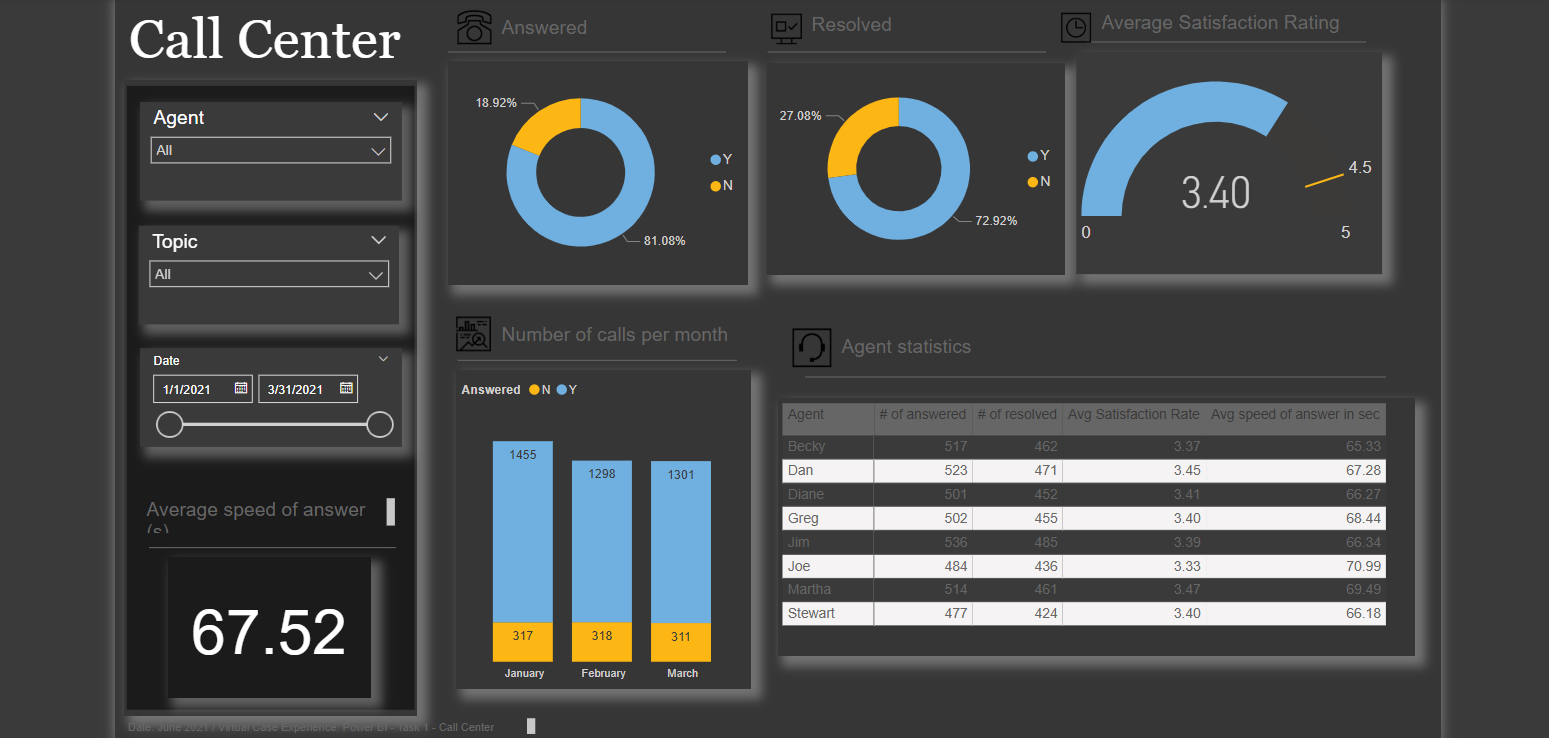

This screenshot's page, from the dashboard's own definition file:
{"tool":"powerbi","page":{"name":"Call Center Manager","canvas":[1280,720],"ordinal":0},"visuals":[{"type":"textbox","box":[8.4,4.8,289.4,74.8],"z":0},{"type":"basicShape","box":[8.7,80.1,283.6,614.4],"z":2000},{"type":"columnChart","fields":{"Category":["Call Center.Date.Variation.Date Hierarchy.Month"],"Y":["Call Center.Call Id"],"Series":["Call Center.Answered (Y/N)"]},"box":[329.5,359.7,284.8,308.3],"z":6000},{"type":"slicer","fields":{"Values":["Call Center.Date"]},"box":[24.6,339.5,252.4,94.9],"z":7000},{"type":"pivotTable","fields":{"Rows":["Call Center.Agent"],"Values":["Call Center.# of answered","Call Center.# of resolved","Call Center.Satisfaction rating","Call Center.Speed of answer in seconds"]},"box":[639.2,387.1,615.1,248.4],"z":8000},{"type":"slicer","fields":{"Values":["Call Center.Agent"]},"box":[24.6,101.6,252.4,95],"z":9000},{"type":"slicer","fields":{"Values":["Call Center.Topic"]},"box":[23.5,220.6,251.3,94.9],"z":10000},{"type":"donutChart","fields":{"Category":["Call Center.Resolved"],"Y":["Call Center.Resolved"]},"box":[628.3,63.9,288.2,203.8],"z":11000},{"type":"gauge","fields":{"Y":["Call Center.Satisfaction rating"],"MaxValue":["Call Center.Satisfaction rating"],"TargetValue":["Call Center.Target Value Satisfaction"]},"box":[927.4,53.1,295.5,214.7],"z":12000},{"type":"textbox","box":[25.3,478.8,249.6,43.4],"z":14000},{"type":"basicShape","box":[22.9,511.4,258.1,39.8],"z":15000},{"type":"donutChart","fields":{"Category":["Call Center.Answered (Y/N)"],"Y":["Call Center.Answered (Y/N)"]},"box":[320.8,61.5,289.4,215.9],"z":16000},{"type":"textbox","box":[367.8,14.5,172.5,36.2],"z":17000},{"type":"textbox","box":[666.9,10.9,183.3,36.2],"z":18000},{"type":"card","fields":{"Values":["Call Center.Speed of answer in seconds"]},"box":[50.7,540.3,196.6,136.3],"z":19000},{"type":"basicShape","box":[927.4,22.9,289.4,41],"z":20000},{"type":"textbox","box":[946.7,9.6,249.6,38.6],"z":21000},{"type":"basicShape","box":[311.2,32.6,288.2,41],"z":22000},{"type":"basicShape","box":[619.9,32.6,288.2,41],"z":23000},{"type":"image","box":[908.1,0,38.6,59.1],"z":24000},{"type":"image","box":[325.6,7.2,42.2,43.4],"z":25000},{"type":"image","box":[628.3,0,39.8,61.5],"z":26000},{"type":"textbox","box":[367.4,310.5,250.2,35.7],"z":27000},{"type":"basicShape","box":[320.5,330.6,289.3,40.2],"z":28000},{"type":"textbox","box":[695.9,322,249.6,36.2],"z":29000},{"type":"basicShape","box":[656.1,346.1,580.1,41],"z":30000},{"type":"image","box":[648.8,309.9,47,56.7],"z":31000},{"type":"image","box":[325,290.4,43.6,69.2],"z":32000},{"type":"textbox","box":[7.7,691.6,403.2,28],"z":34000}]}

Visuals, with their boxes on the page's 1280x720 design canvas (x1, y1, x2, y2). These are canvas units, not pixel positions in the 1549x738 screenshot, which may show the page scaled, cropped or inside an application window:
textbox: (8, 5, 298, 80)
basicShape: (9, 80, 292, 694)
columnChart - Call Center.Date.Variation.Date Hierarchy.Month x Call Center.Call Id: (330, 360, 614, 668)
slicer - Call Center.Date: (25, 340, 277, 434)
pivotTable - Call Center.Agent x Call Center.# of answered: (639, 387, 1254, 636)
slicer - Call Center.Agent: (25, 102, 277, 197)
slicer - Call Center.Topic: (24, 221, 275, 316)
donutChart - Call Center.Resolved x Call Center.Resolved: (628, 64, 916, 268)
gauge - Call Center.Satisfaction rating x Call Center.Satisfaction rating: (927, 53, 1223, 268)
textbox: (25, 479, 275, 522)
basicShape: (23, 511, 281, 551)
donutChart - Call Center.Answered (Y/N) x Call Center.Answered (Y/N): (321, 62, 610, 277)
textbox: (368, 14, 540, 51)
textbox: (667, 11, 850, 47)
card - Call Center.Speed of answer in seconds: (51, 540, 247, 677)
basicShape: (927, 23, 1217, 64)
textbox: (947, 10, 1196, 48)
basicShape: (311, 33, 599, 74)
basicShape: (620, 33, 908, 74)
image: (908, 0, 947, 59)
image: (326, 7, 368, 51)
image: (628, 0, 668, 62)
textbox: (367, 310, 618, 346)
basicShape: (320, 331, 610, 371)
textbox: (696, 322, 946, 358)
basicShape: (656, 346, 1236, 387)
image: (649, 310, 696, 367)
image: (325, 290, 369, 360)
textbox: (8, 692, 411, 720)
